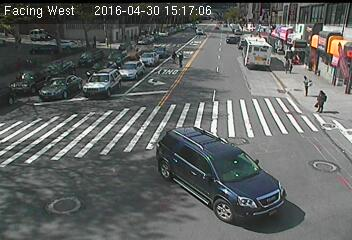neg: (50, 81, 79, 120), (152, 113, 178, 147), (52, 136, 78, 170), (258, 49, 279, 77), (219, 50, 240, 78), (316, 31, 337, 59), (294, 26, 308, 44), (55, 47, 68, 64), (240, 34, 251, 49), (263, 24, 274, 38), (44, 32, 51, 41)
pos: (313, 86, 332, 112), (10, 54, 28, 78), (297, 73, 314, 96), (279, 54, 295, 74), (175, 49, 189, 67), (88, 32, 100, 49), (167, 46, 179, 61)
